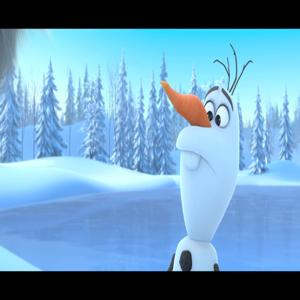carrot: (161, 74, 221, 127)
olaf: (157, 31, 261, 268)
